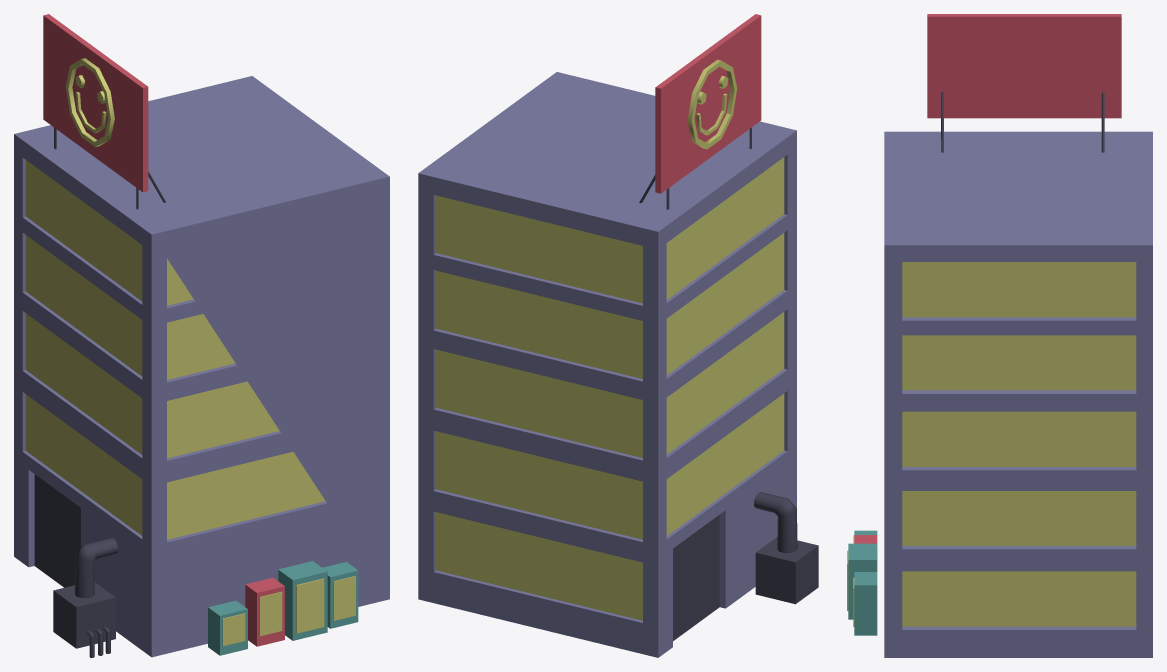
The model's file is SM_House_2_2.fbx.
The picture shows the model from 3 angles, left to right: view 1: azimuth 30°, elevation 25°; view 2: azimuth 150°, elevation 25°; view 3: azimuth 270°, elevation 25°; orthographic projection. The views are drawn at different scales.
Visible parts, largest first — view 1: SM_House_2_2; view 2: SM_House_2_2; view 3: SM_House_2_2.
Part boxes in pixels (bbox=[...]): SM_House_2_2: bbox=[14, 14, 389, 657]; SM_House_2_2: bbox=[418, 14, 818, 657]; SM_House_2_2: bbox=[847, 14, 1152, 657].
Bounding box in the file's own units: 7.22 × 13.43 × 6.83.
